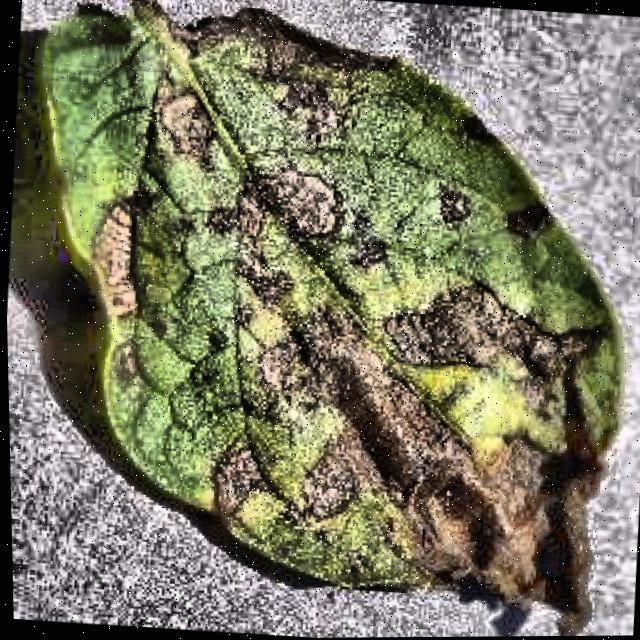Potato_leaf_early_blight: (45, 1, 621, 636)
